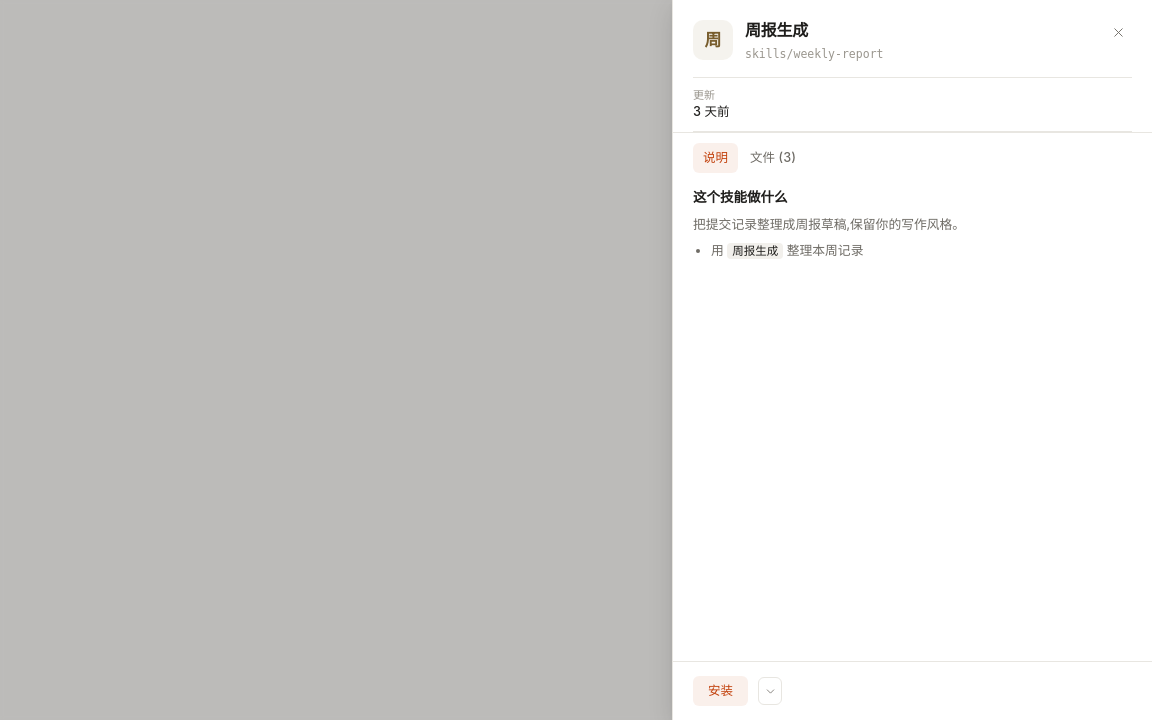
Test: DetailPanel › 文件页列出全部文件;拿不到大小的不编造数字
Click the tab "文件 (3)" at (773, 158), box x1=740 y1=143 x2=806 y2=173
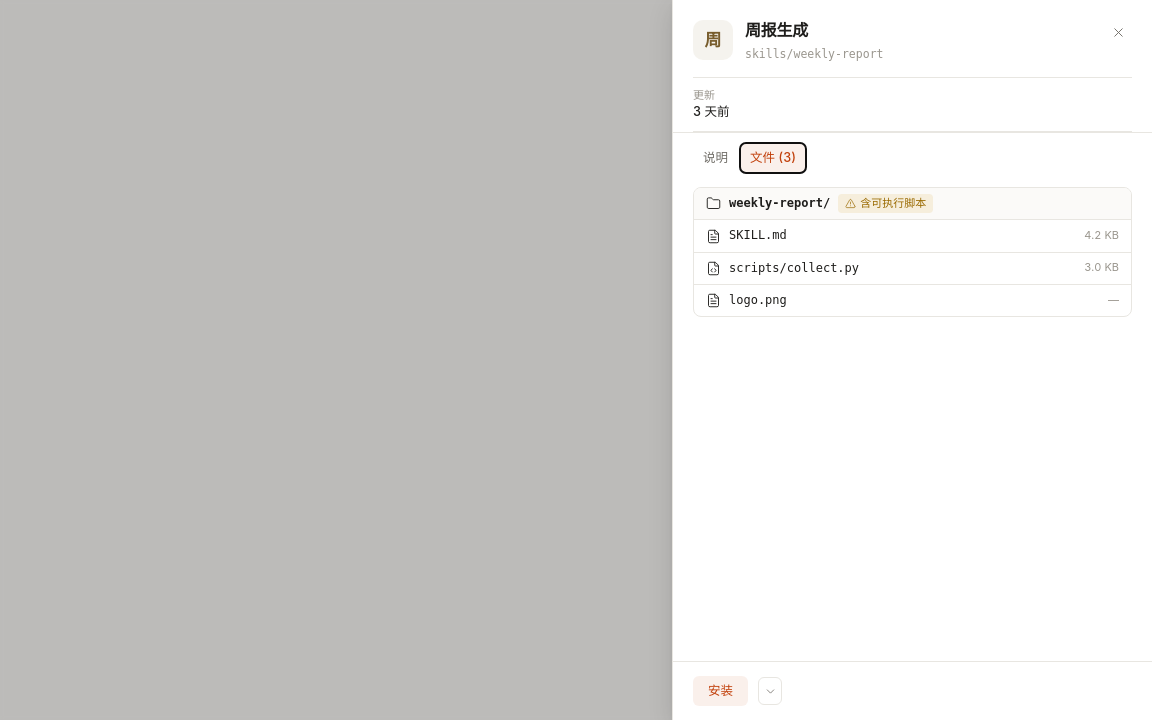
Expected: the text "SKILL.md" is shown, x1=729 y1=226 x2=787 y2=246
Expected: the text "4.2 KB" is shown, x1=1084 y1=227 x2=1119 y2=245
Expected: the text "scripts/collect.py" is shown, x1=729 y1=259 x2=859 y2=278
